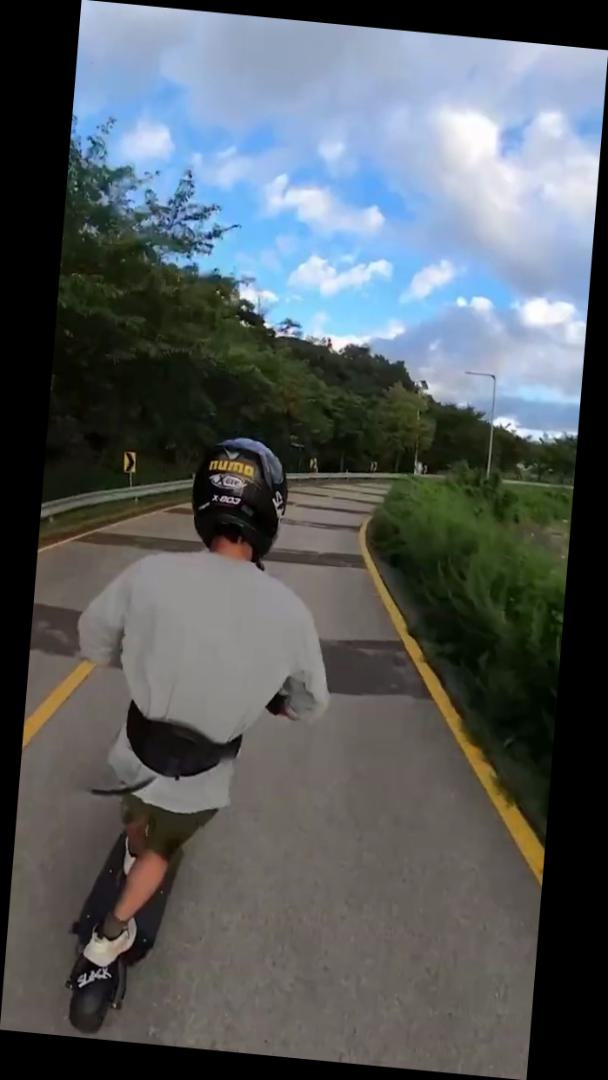helmet: (39, 419, 354, 1059)
